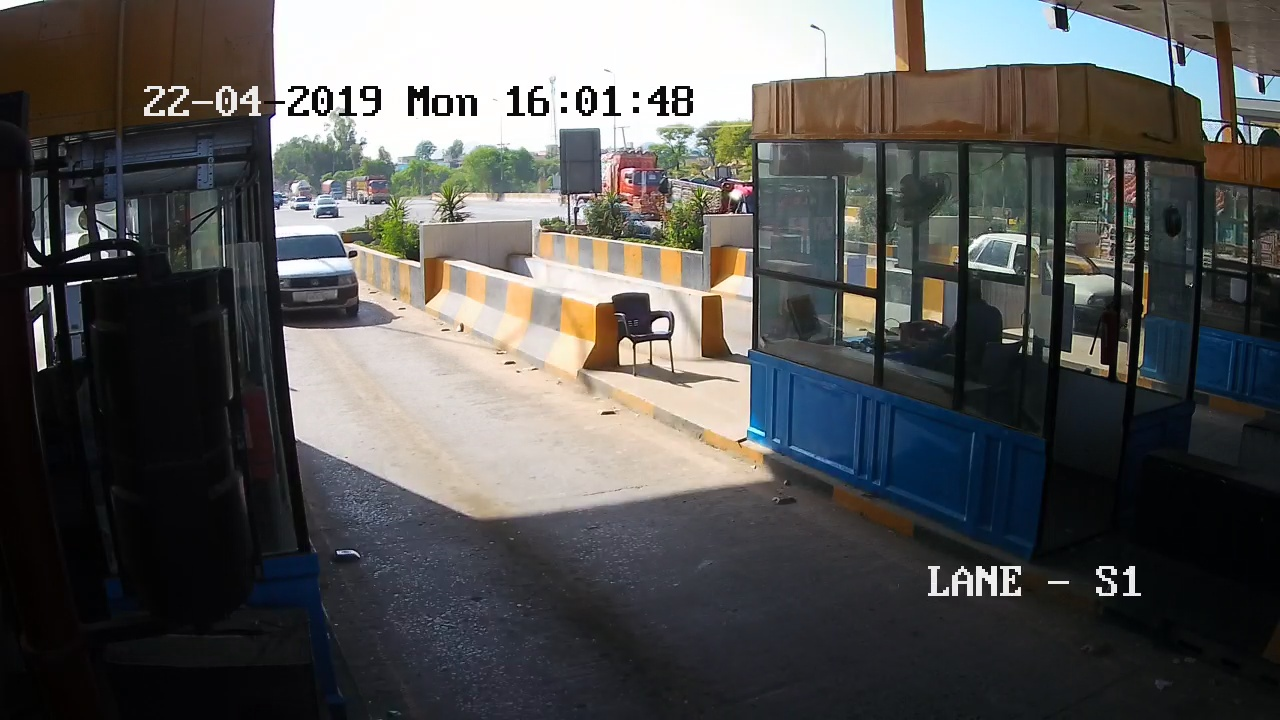car: (275, 222, 377, 350)
